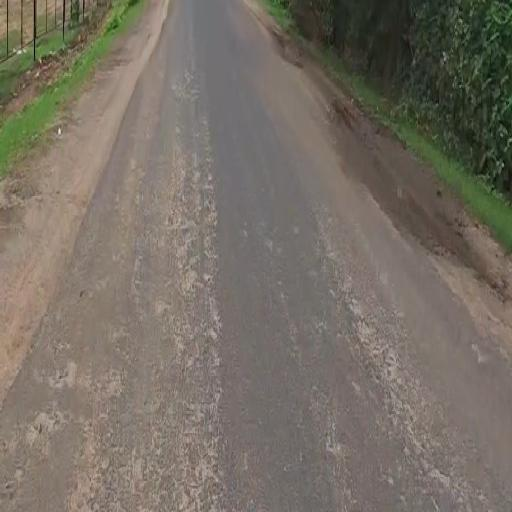ravelling: (292, 127, 448, 490), (132, 69, 231, 505)
